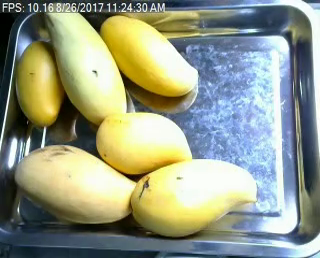Mango: (43, 3, 127, 124), (14, 145, 144, 223), (130, 159, 257, 237), (100, 14, 198, 96), (95, 113, 191, 173), (15, 41, 63, 126)
